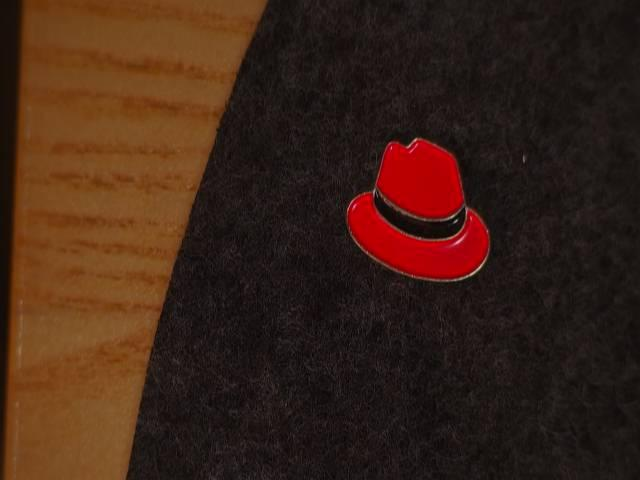Red-Hat: (330, 111, 524, 318)
